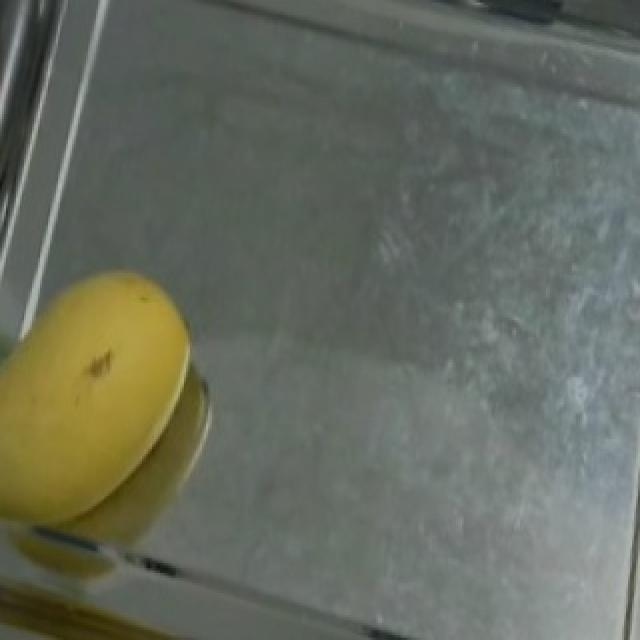fruit: (0, 228, 234, 573)
